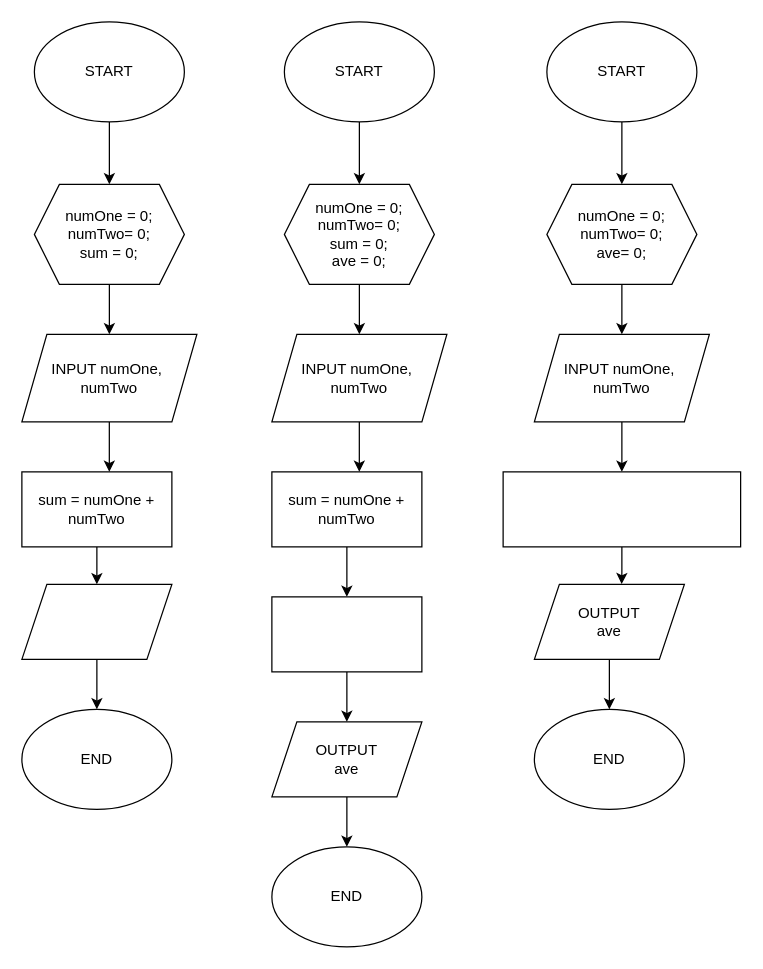
This 763x969 diagram has some shape labels left out. Here are the shapes that lost their labels. From the top down, the centre of each, then its label:
the point at 621,509: ave = (numOne + numTwo) / 2
the point at 96,621: OUTPUT sum
the point at 346,634: ave = sum / 2
